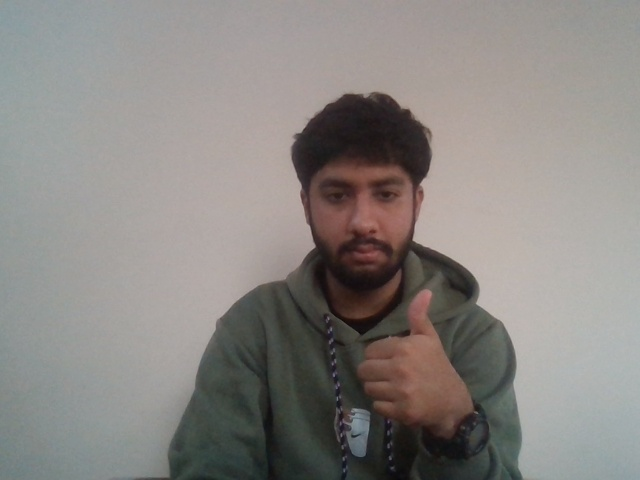Yes: (348, 283, 467, 428)
